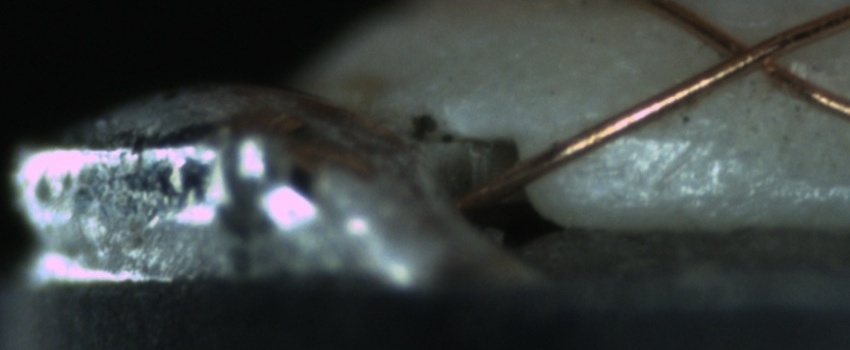CL: (697, 21, 799, 89)
